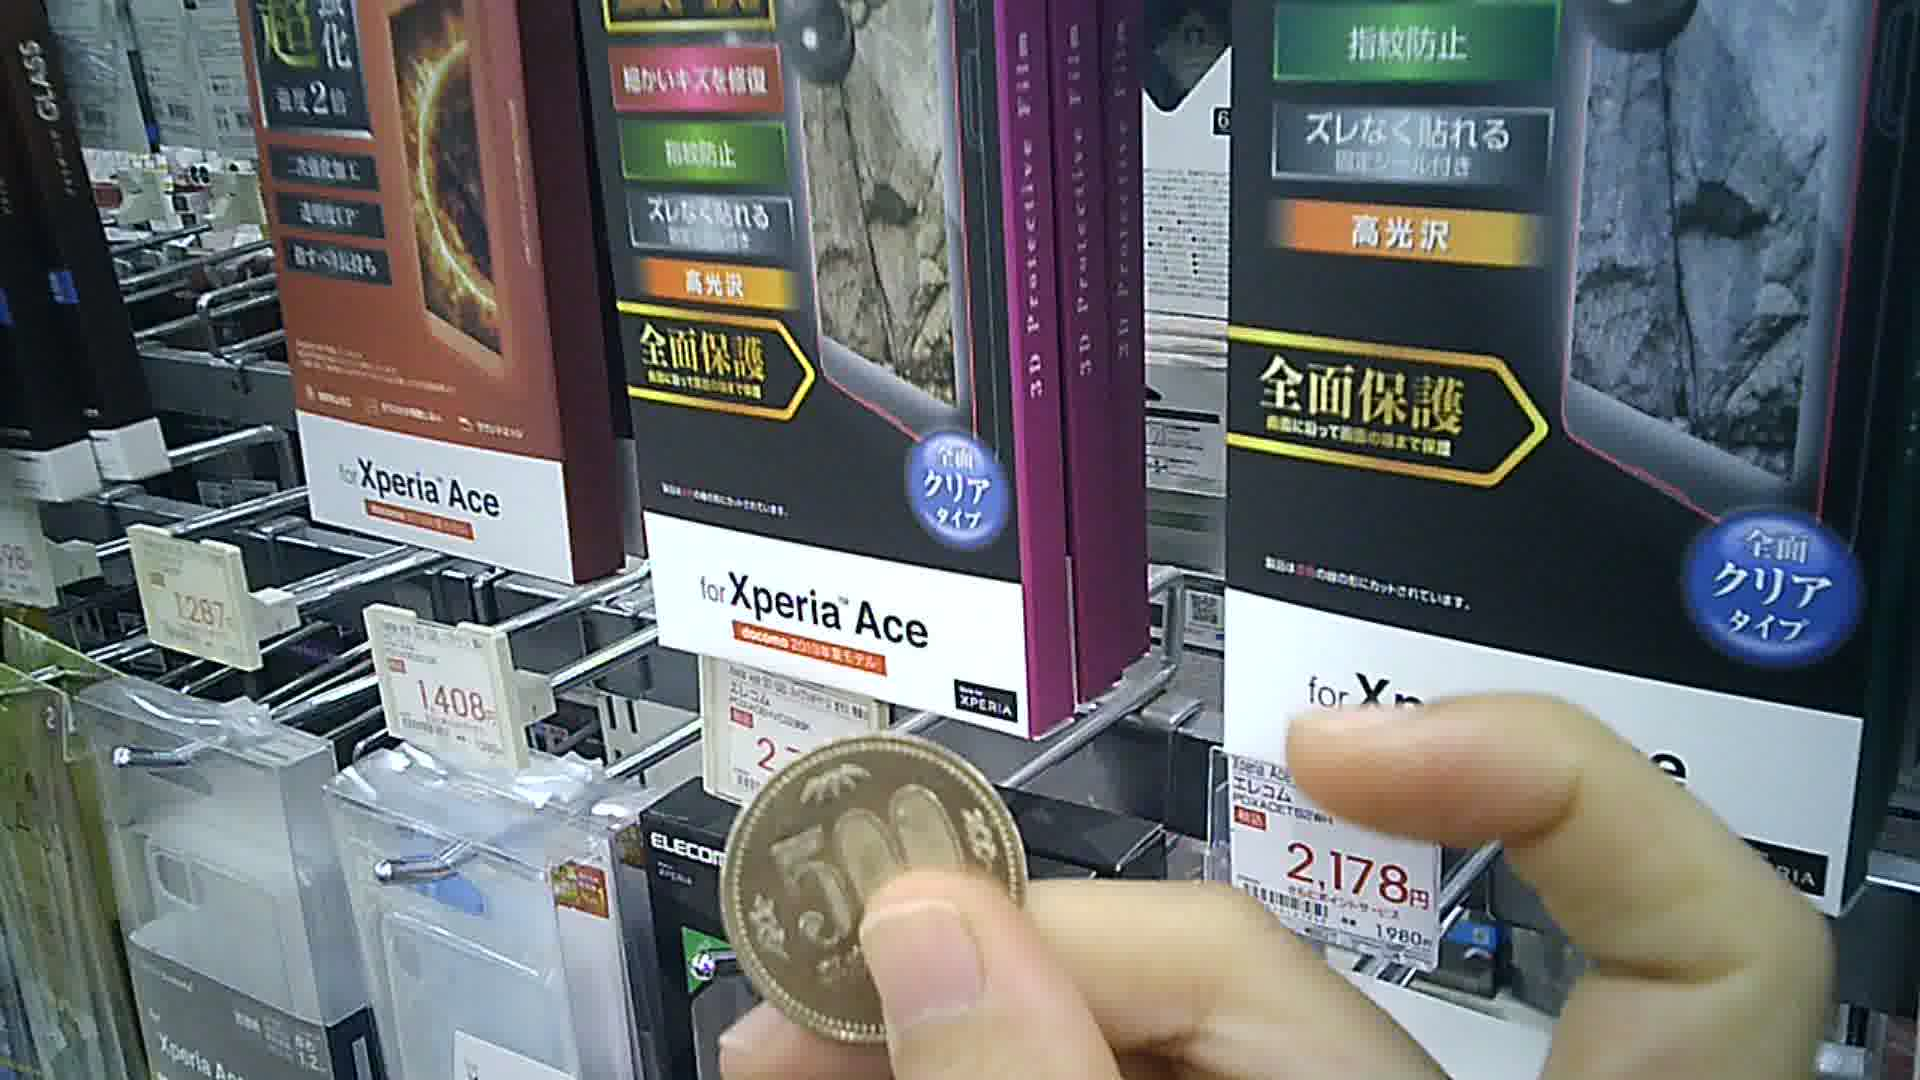500 Yen: (713, 736, 1033, 1042)
